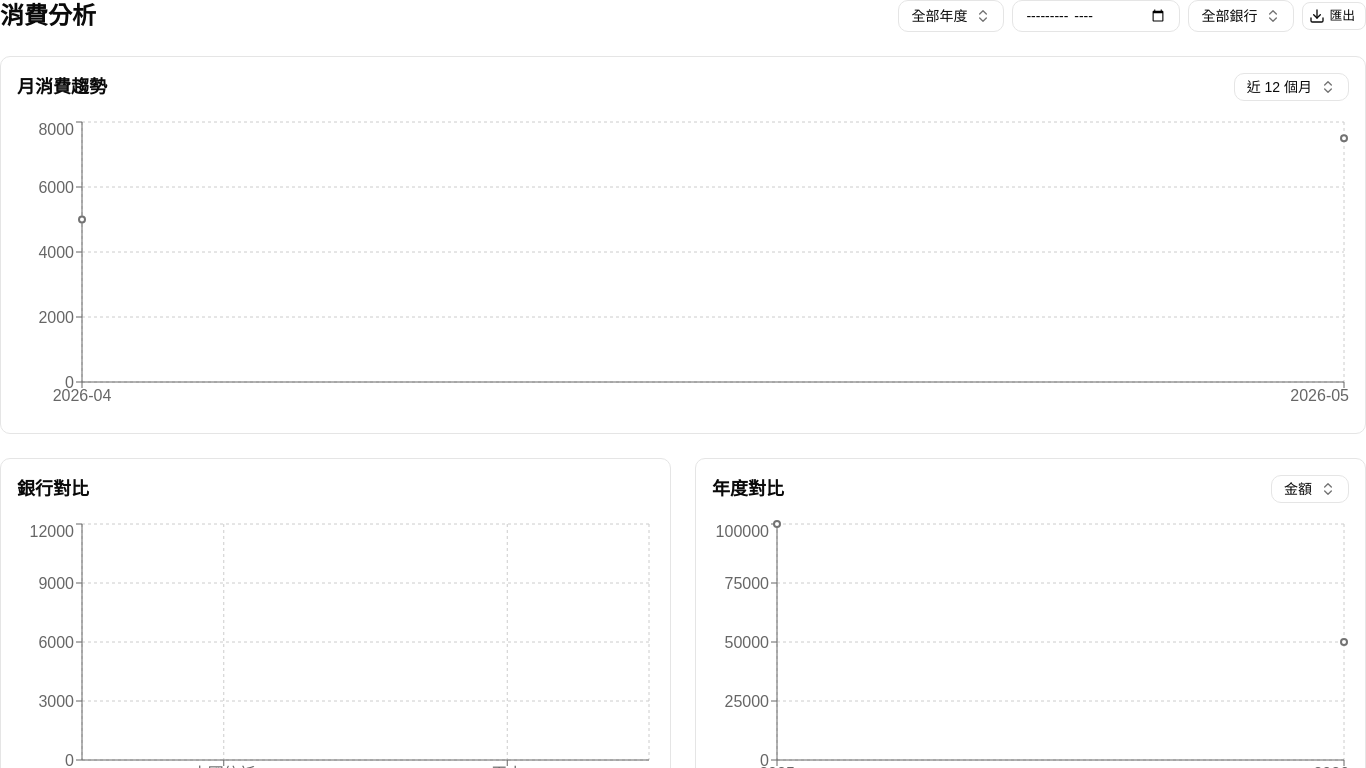
InsightsPage › closes export dialog on Escape
Click the button "匯出". click: (1334, 16)
box: [1302,2,1365,30]
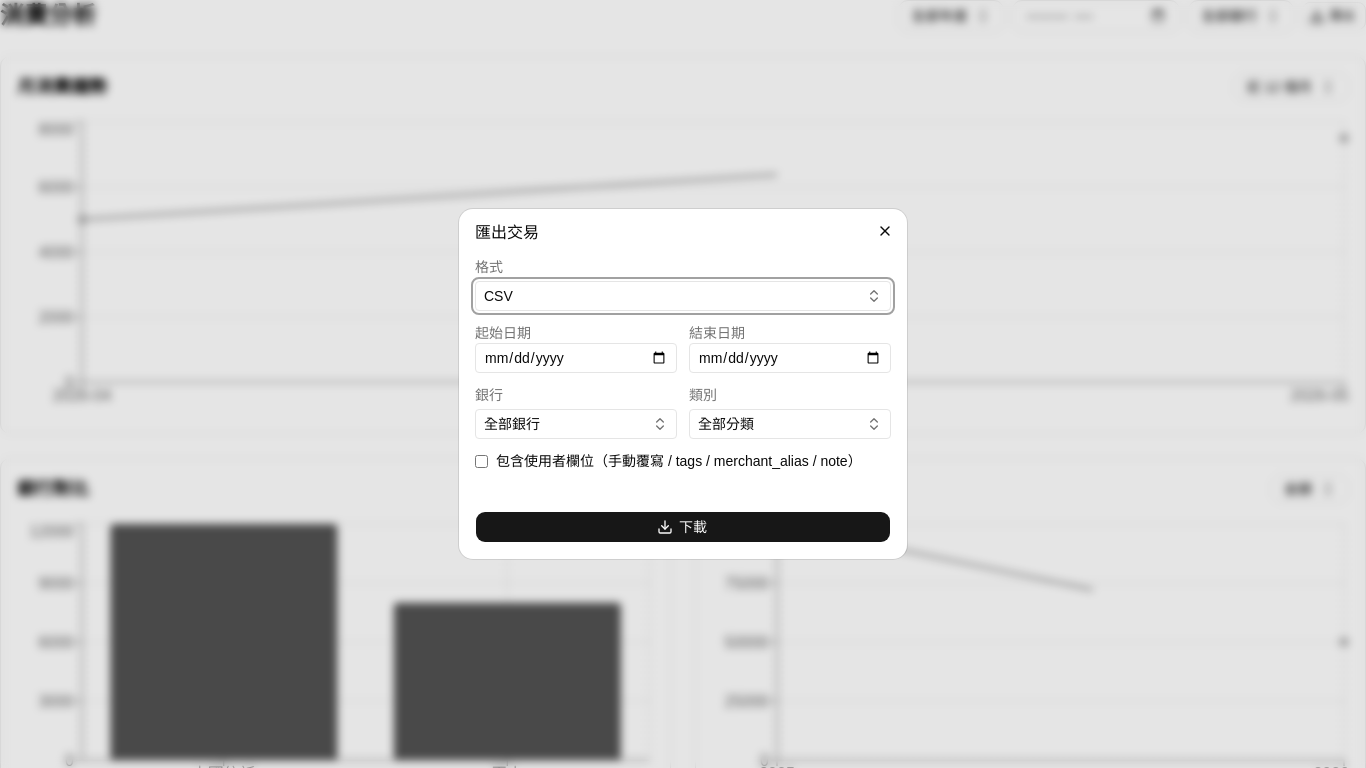
Expected: the dialog is shown, [459,209,907,559]
Press Escape
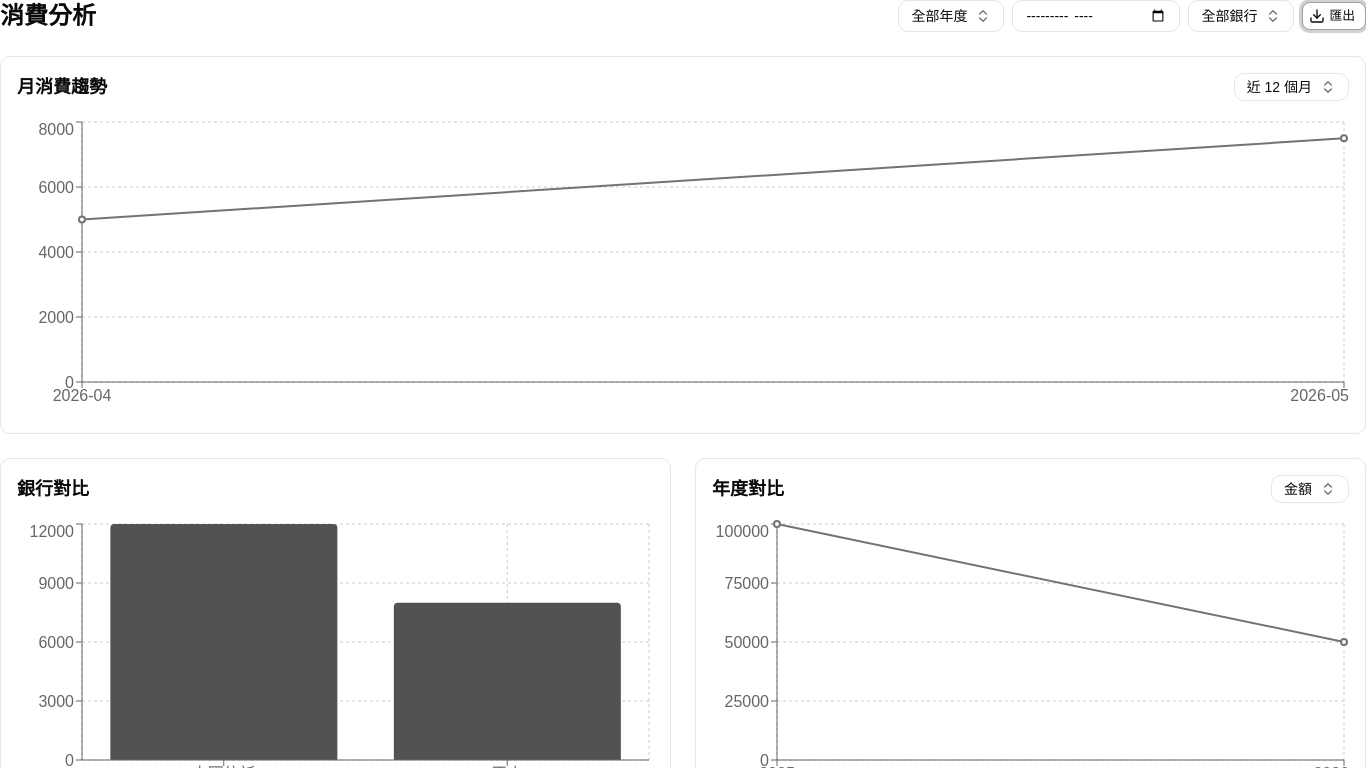
Expected: the dialog is gone
